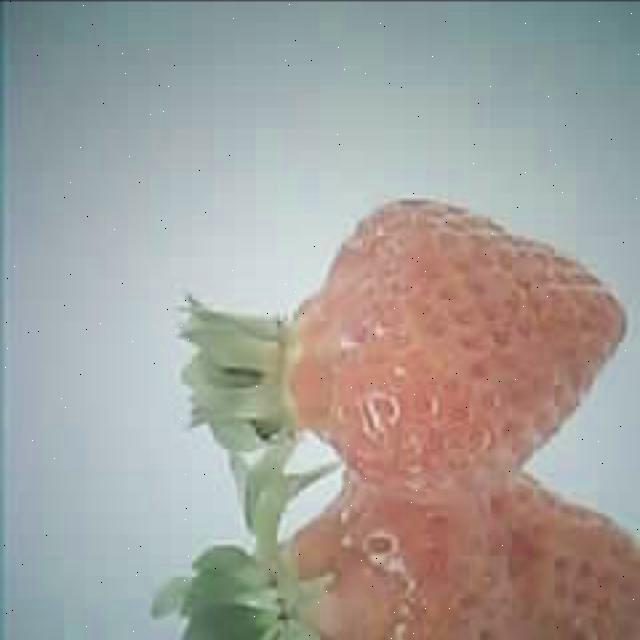ripe: (292, 200, 634, 499), (277, 467, 639, 640)
